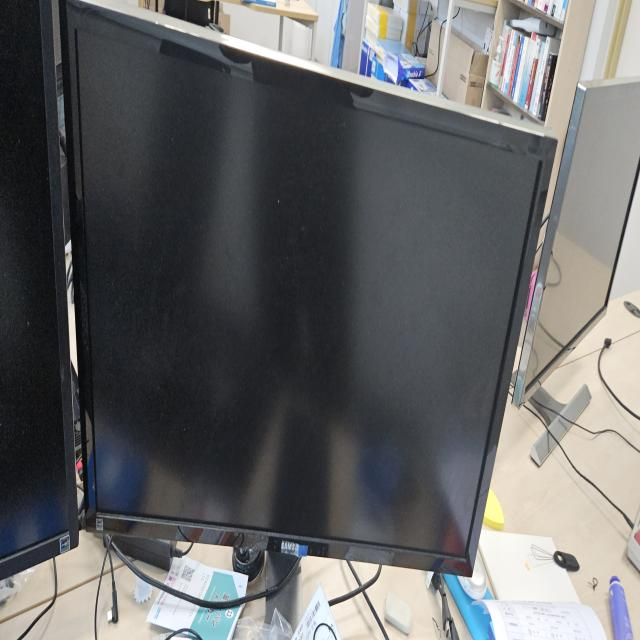Monitor: (58, 1, 558, 586)
